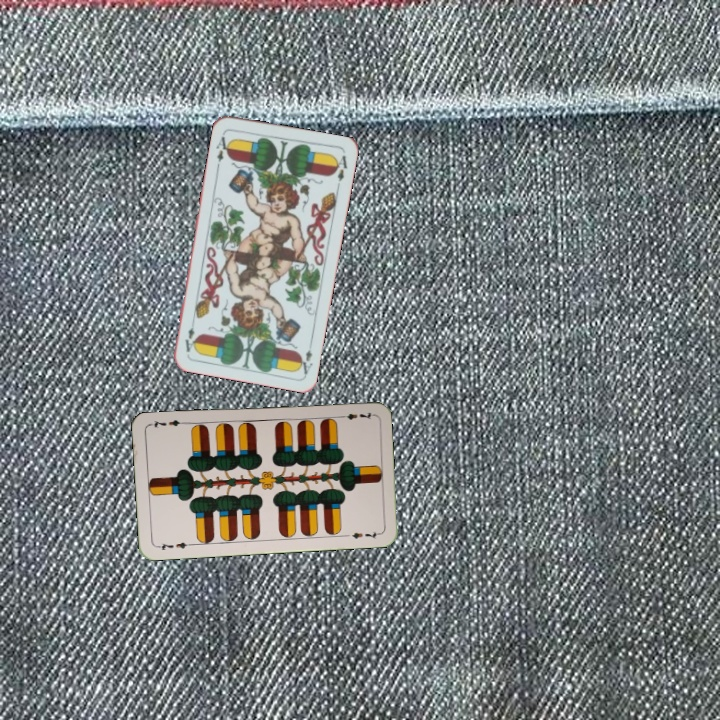E7: (153, 538, 194, 553), (334, 408, 375, 422)
EA: (294, 337, 316, 377), (212, 129, 233, 169)
